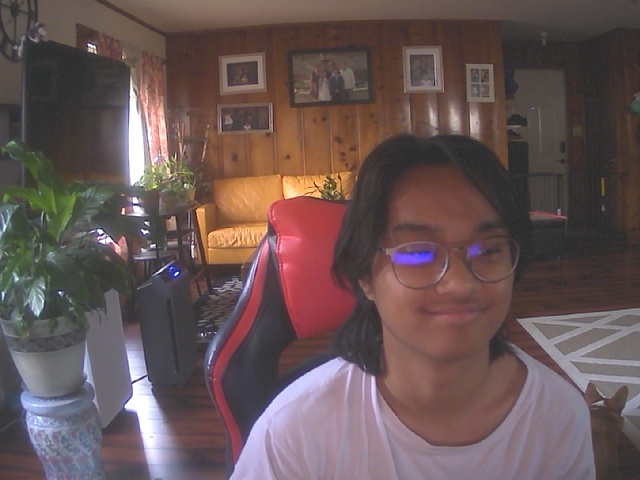happy: (357, 145, 519, 364)
